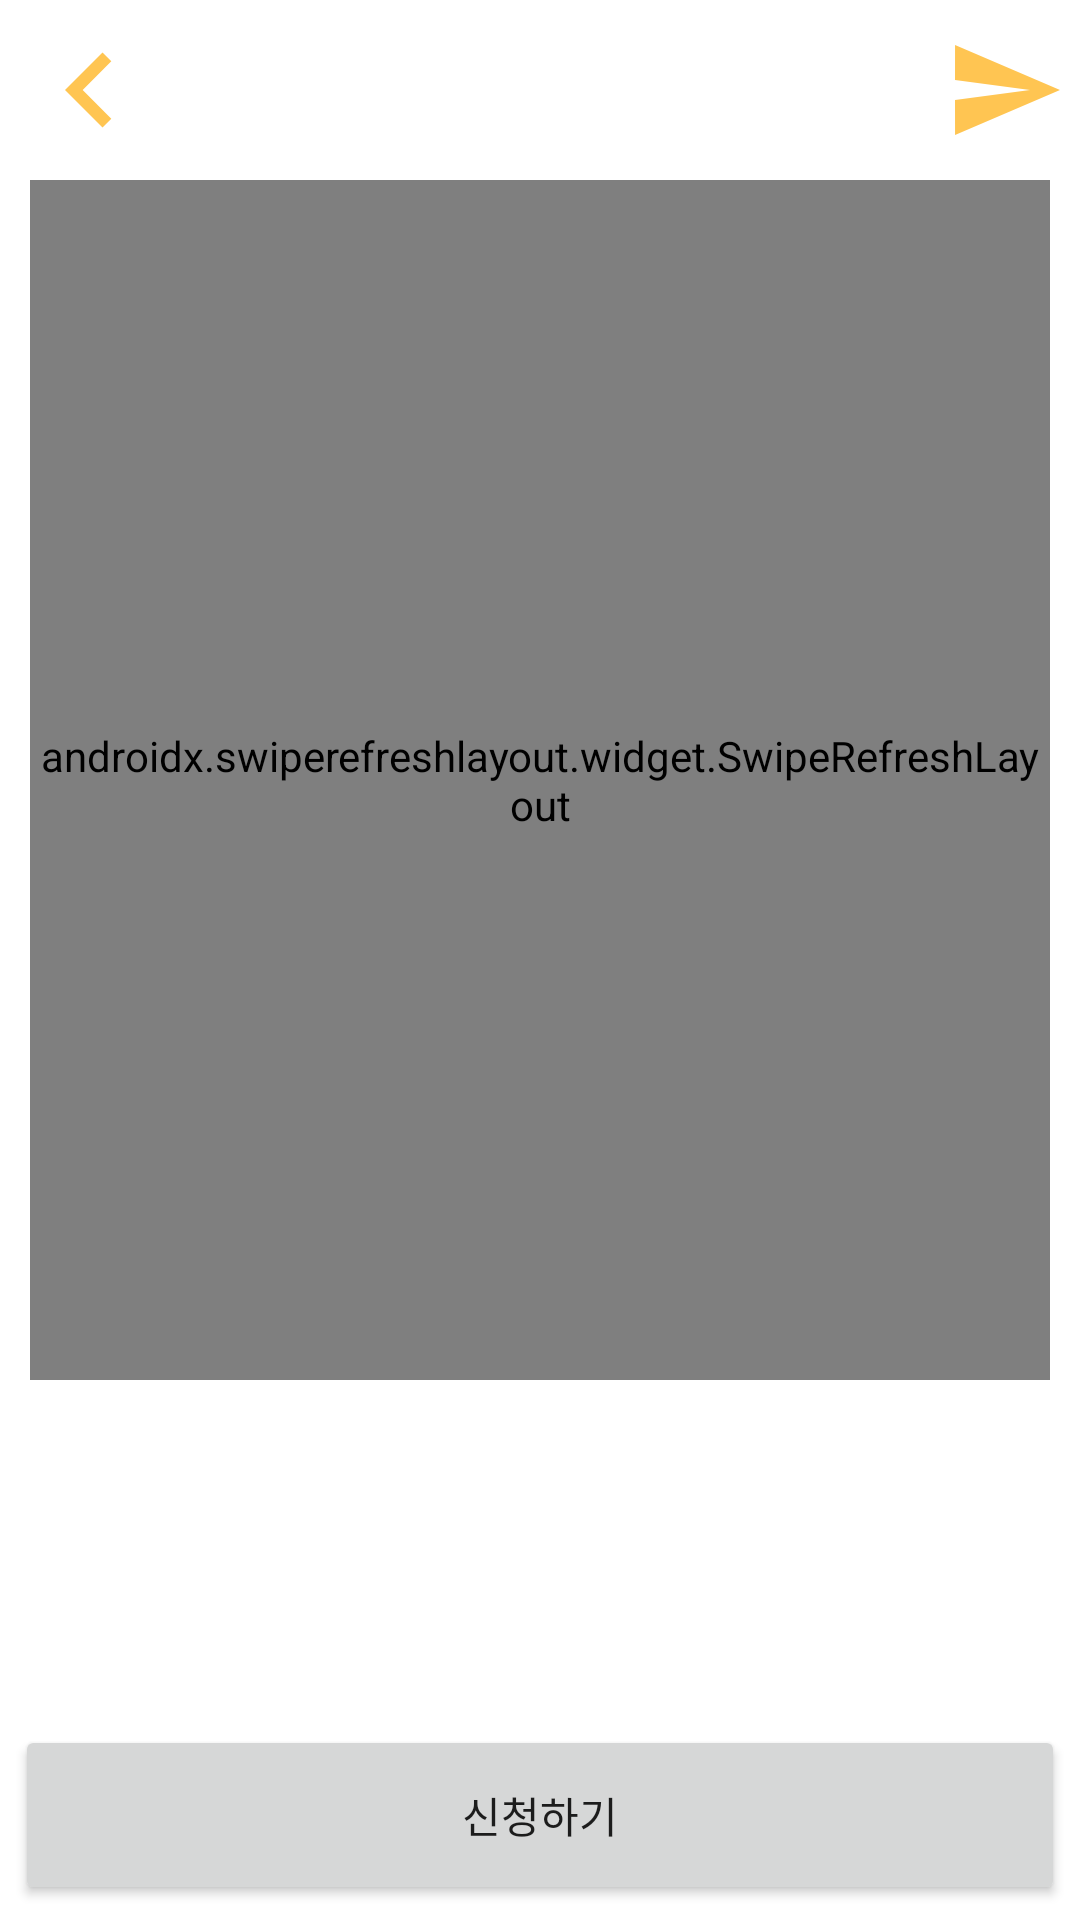

Named icons in this screenshot (1080 x 1920) and their bounding boxes, {"x1": x1, "y1": y1, "x2": x2, "y2": y2}:
back: {"x1": 65, "y1": 52, "x2": 111, "y2": 128}
